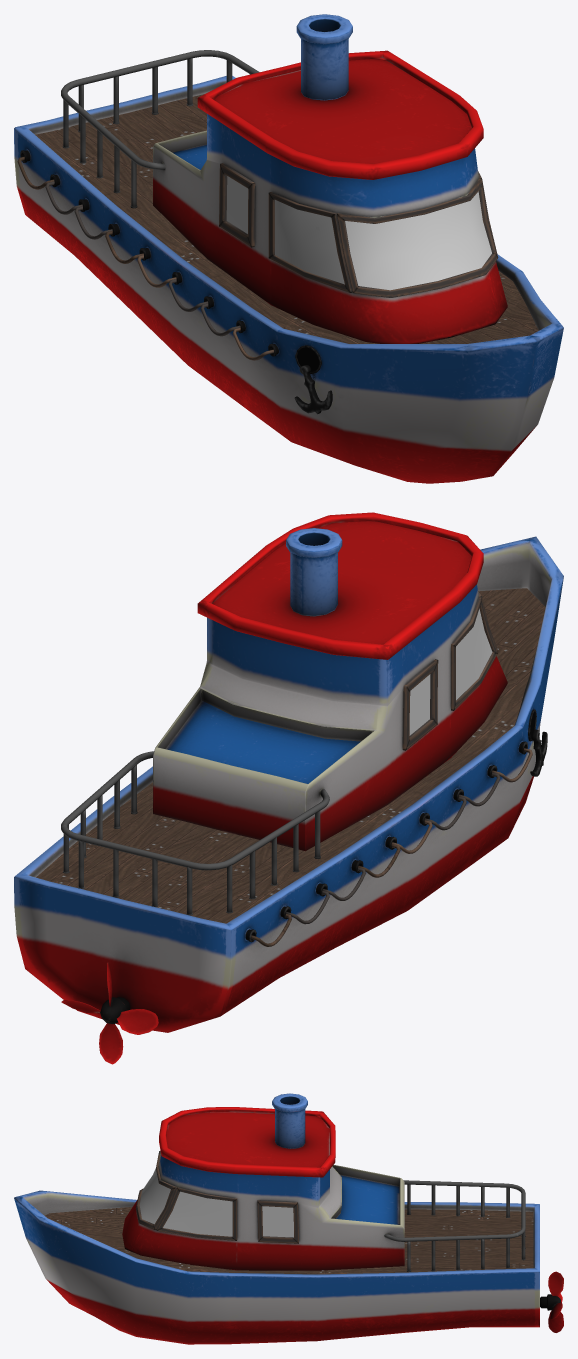
File: Boat.fbx
The picture shows the model from 3 angles, top to bottom: view 1: azimuth 30°, elevation 25°; view 2: azimuth 150°, elevation 25°; view 3: azimuth 270°, elevation 25°; orthographic projection. The views are drawn at different scales.
Parts seen in each view (by area): view 1: Boat.001; view 2: Boat.001, Motor; view 3: Boat.001, Motor.
Boxes of the visible parts, <box> form: Boat.001: <box>14,14,563,483</box>; Boat.001: <box>14,512,563,1032</box>; Motor: <box>61,962,158,1064</box>; Boat.001: <box>14,1093,539,1344</box>; Motor: <box>540,1271,563,1332</box>.
Bounding box in the file's own units: 16653 × 22926 × 48110.
